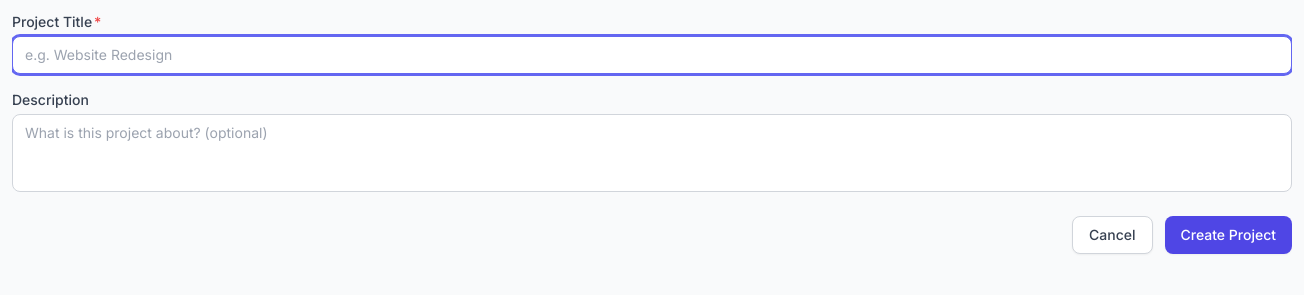
Test: ProjectForm component › shows validation error when submitted empty
What coordinates should you click on to do the following:
click the button "Create Project"
I would click on:
 (1228, 235)
Its box is x1=1164 y1=216 x2=1292 y2=254.
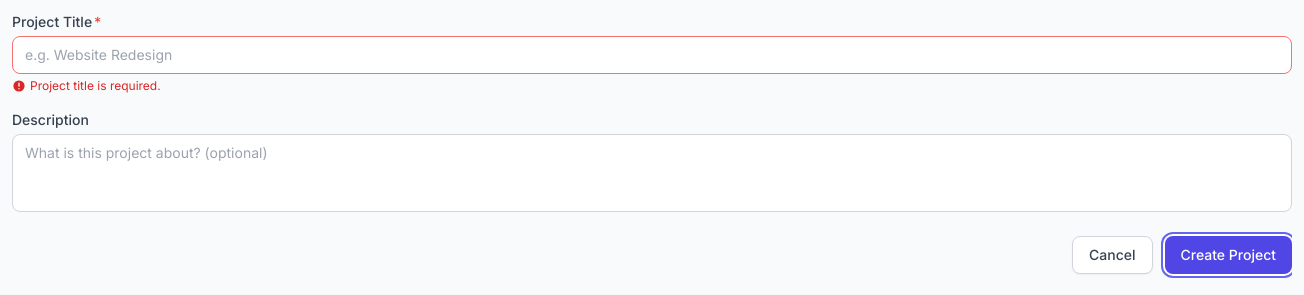
expect the text "Project title is required." is shown: met, box x1=12 y1=78 x2=161 y2=93
